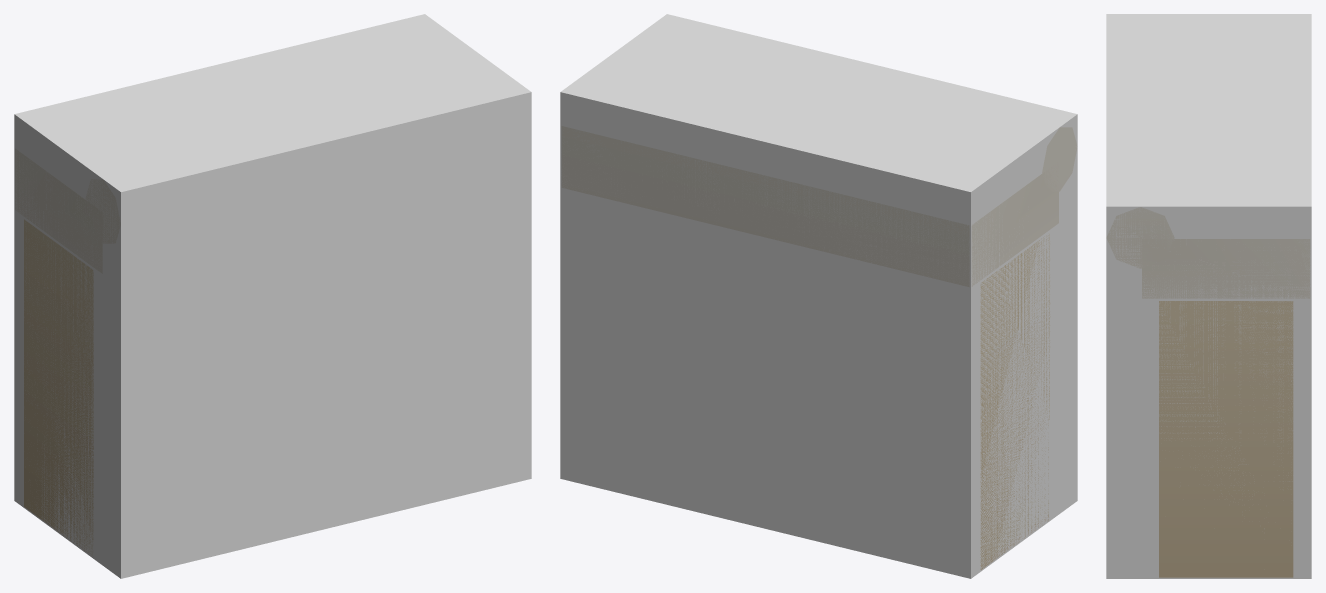
Rendered from KIT_SF_SeawallBody_Cap_A.glb.
The picture shows the model from 3 angles, left to right: view 1: azimuth 30°, elevation 25°; view 2: azimuth 150°, elevation 25°; view 3: azimuth 270°, elevation 25°; orthographic projection. The views are drawn at different scales.
Parts seen in each view (by area): view 1: KIT_SF_SeawallBody_Cap_A_COL, KIT_SF_SeawallBody_Cap_A; view 2: KIT_SF_SeawallBody_Cap_A_COL, KIT_SF_SeawallBody_Cap_A; view 3: KIT_SF_SeawallBody_Cap_A_COL, KIT_SF_SeawallBody_Cap_A.
Boxes of the visible parts, x1=… form: KIT_SF_SeawallBody_Cap_A_COL: x1=14, y1=14, x2=531, y2=578; KIT_SF_SeawallBody_Cap_A: x1=15, y1=148, x2=120, y2=555; KIT_SF_SeawallBody_Cap_A_COL: x1=560, y1=14, x2=1077, y2=578; KIT_SF_SeawallBody_Cap_A: x1=561, y1=126, x2=1077, y2=569; KIT_SF_SeawallBody_Cap_A_COL: x1=1106, y1=14, x2=1311, y2=578; KIT_SF_SeawallBody_Cap_A: x1=1106, y1=207, x2=1310, y2=577.
Size of what is drawn, in the model's own units: 4 by 3.6 by 1.8.
